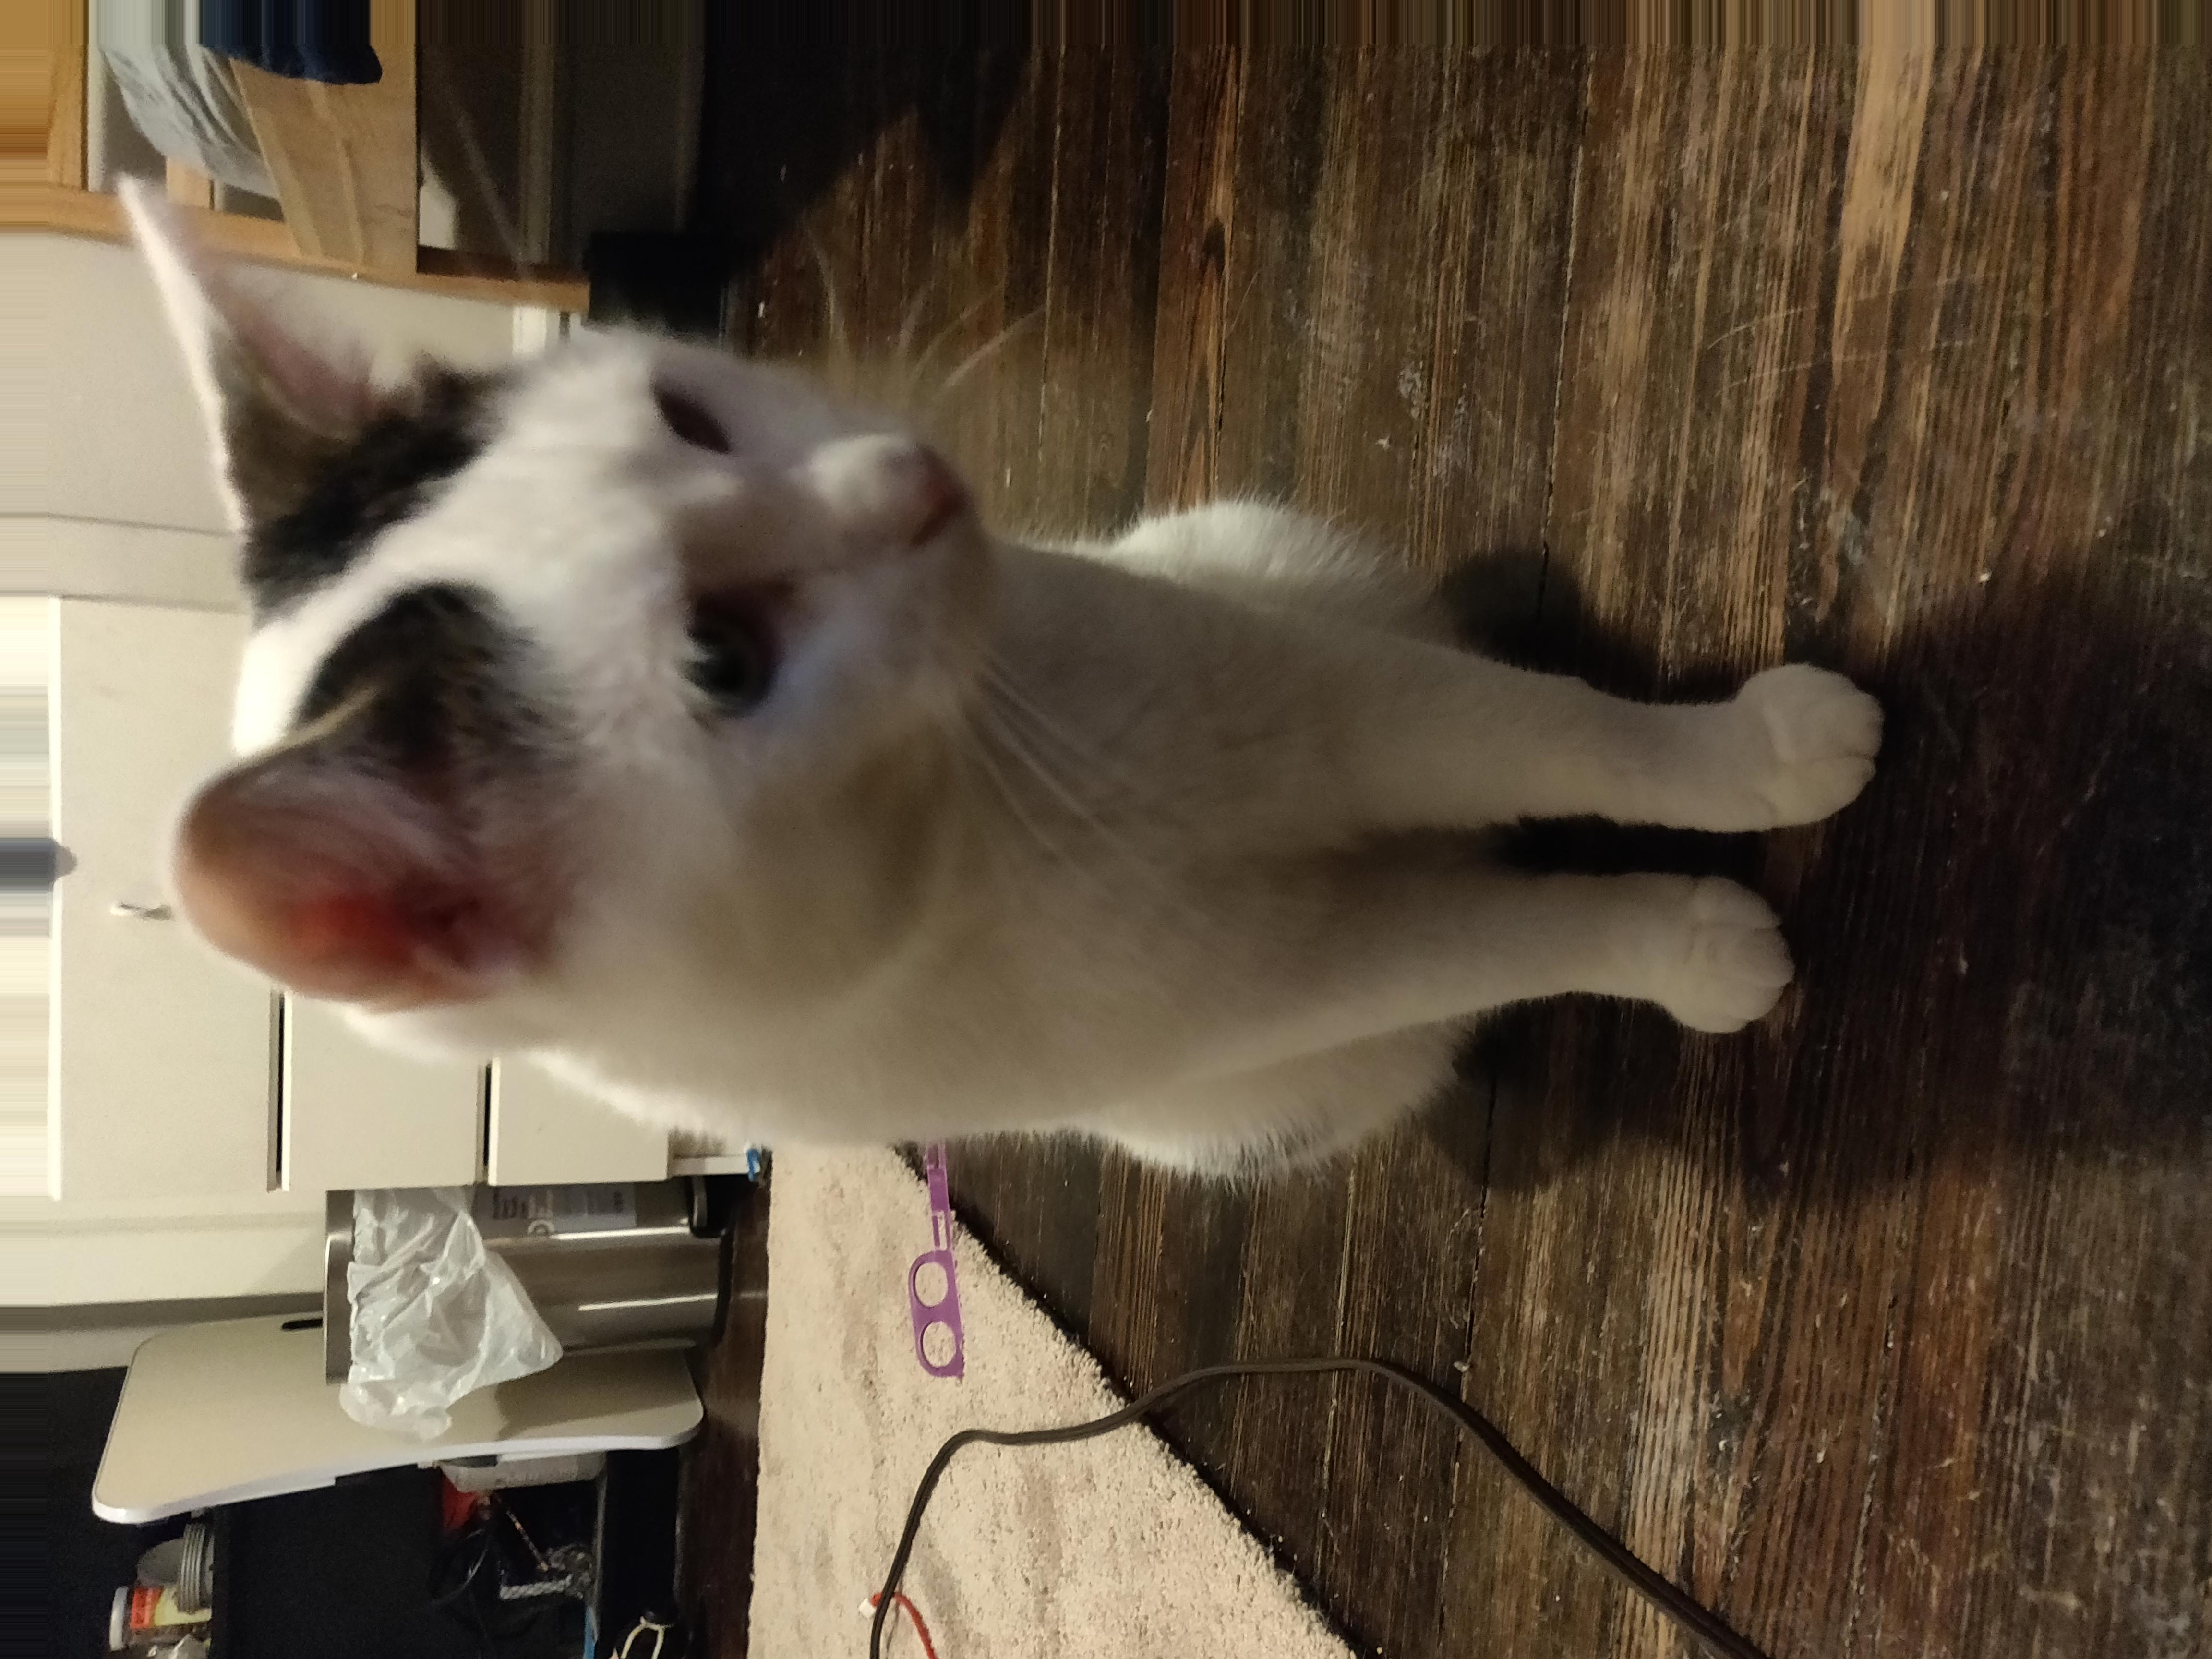cat: (108, 168, 1885, 1167)
